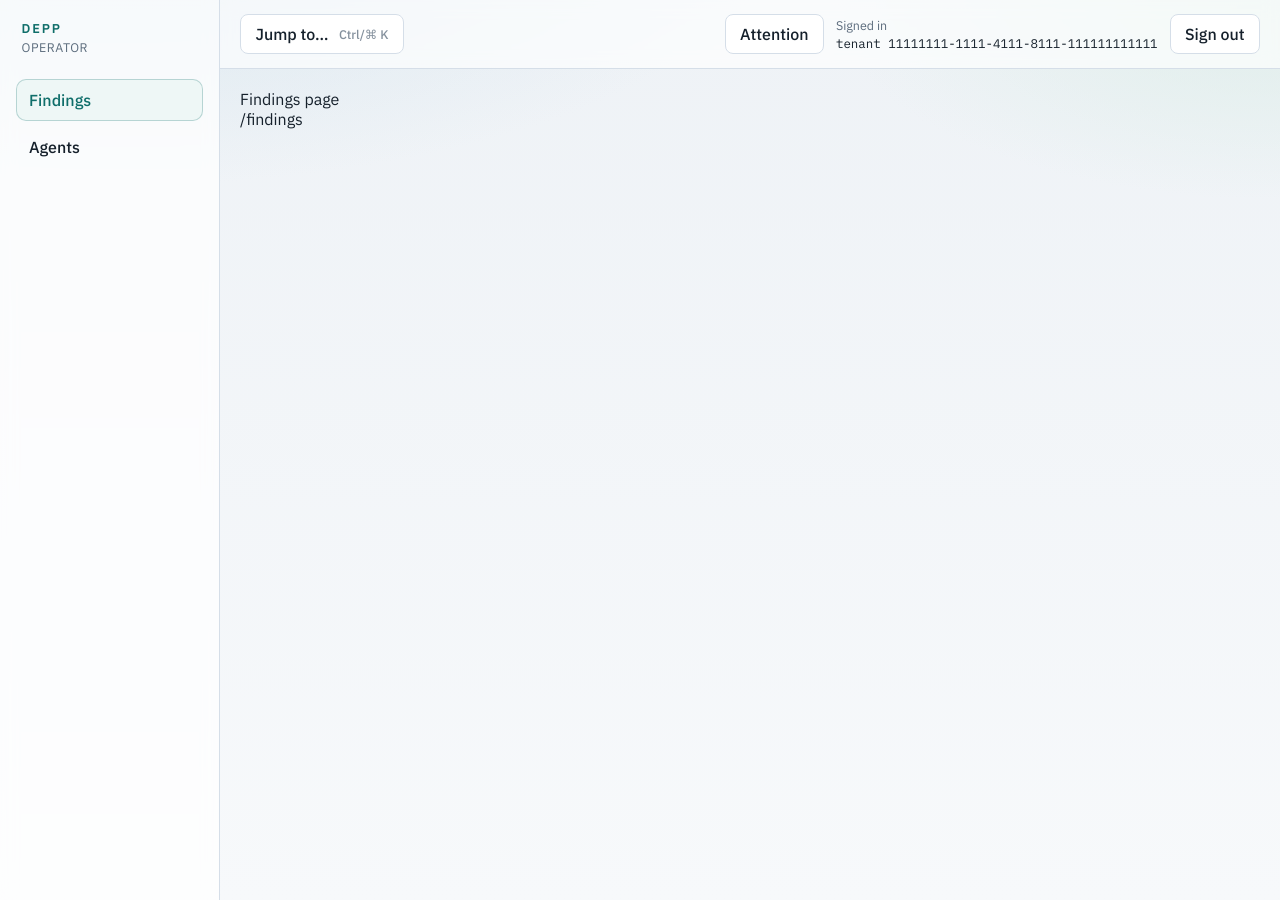
Test: OperatorShell › shows no-match state and applies a saved view path
Click the button "Jump to… Ctrl/⌘ K".
click(322, 34)  # box [240,14,404,54]
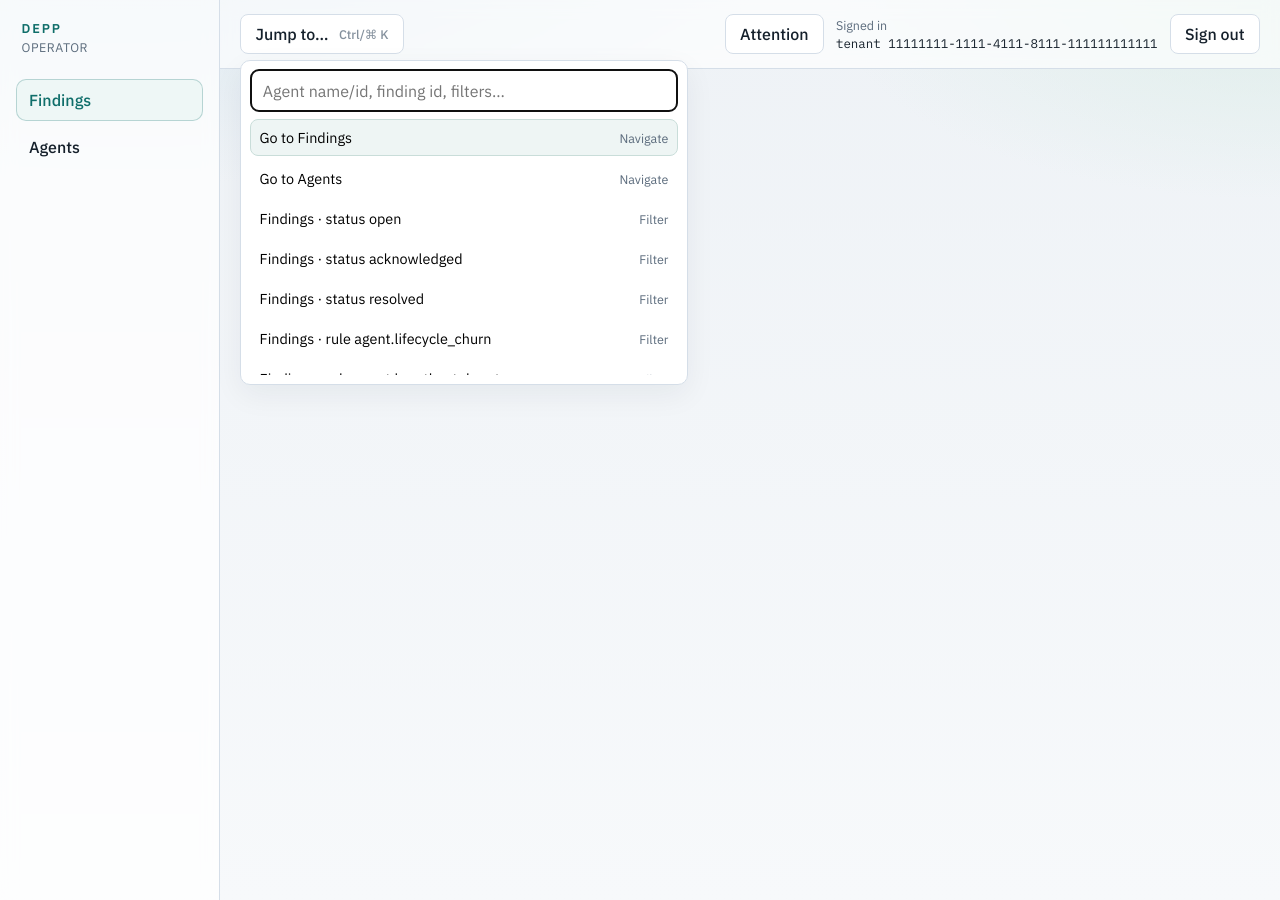
Type "zzzz-none" into the field named "Filter actions".
click(464, 91); type("zzzz-none")  # box [250,69,678,112]
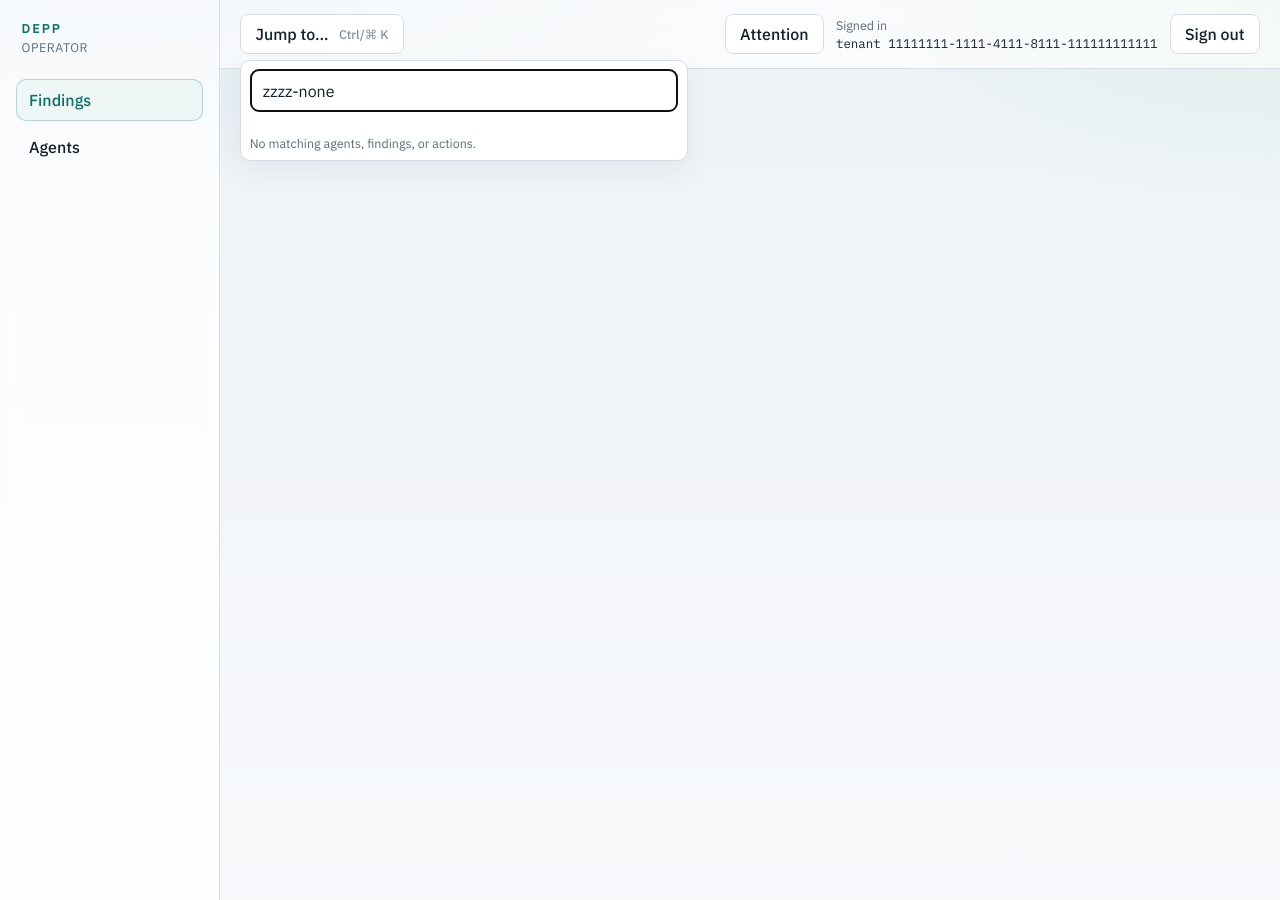
Expected: the text "No matching agents, findings, or actions." is shown, [250,135,476,151]
Replace the text in the field named "Filter actions" with "Open churn" at (464, 91), box [250,69,678,112]
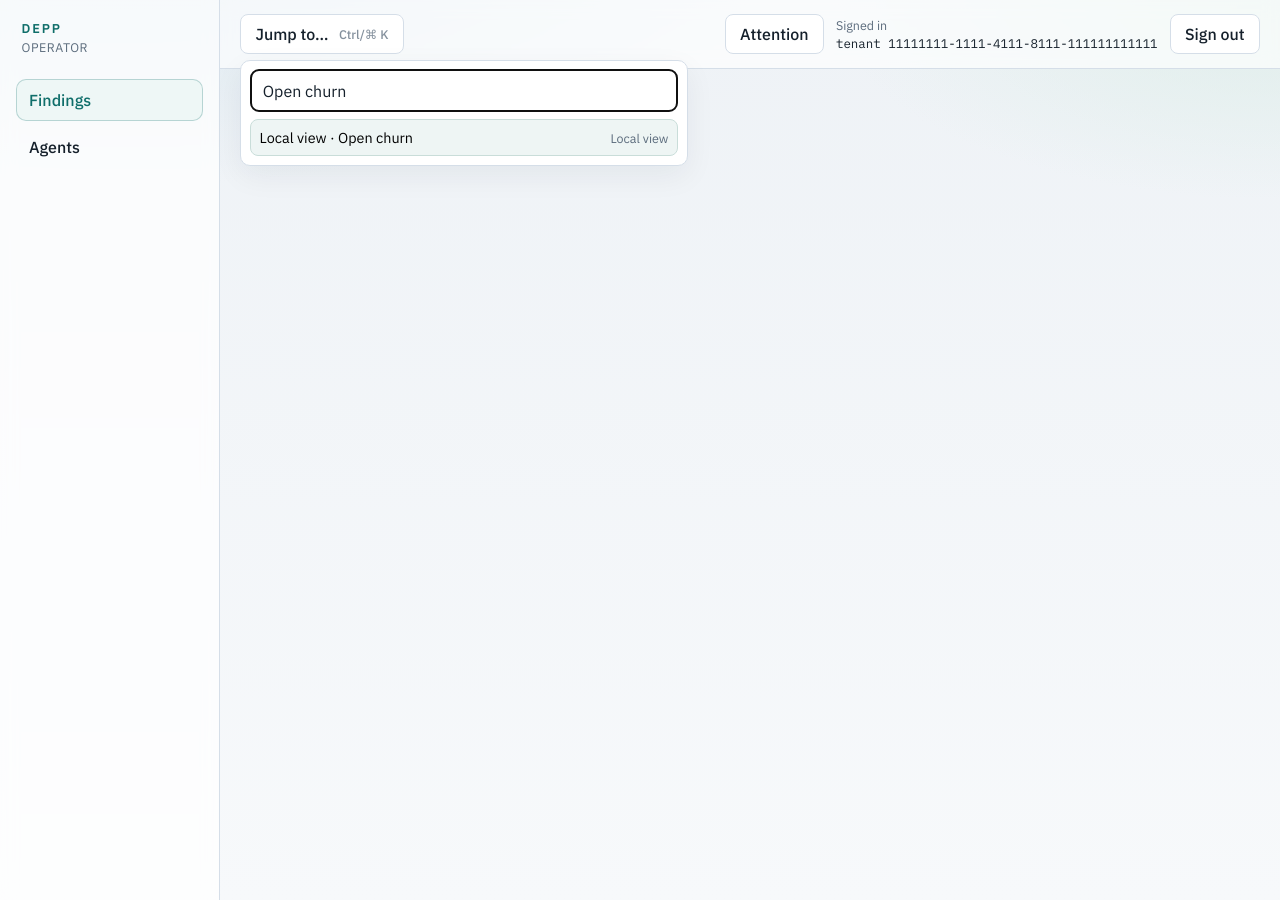
Click the option "Local view · Open churn Local view".
click(336, 138)  # box [250,119,678,156]
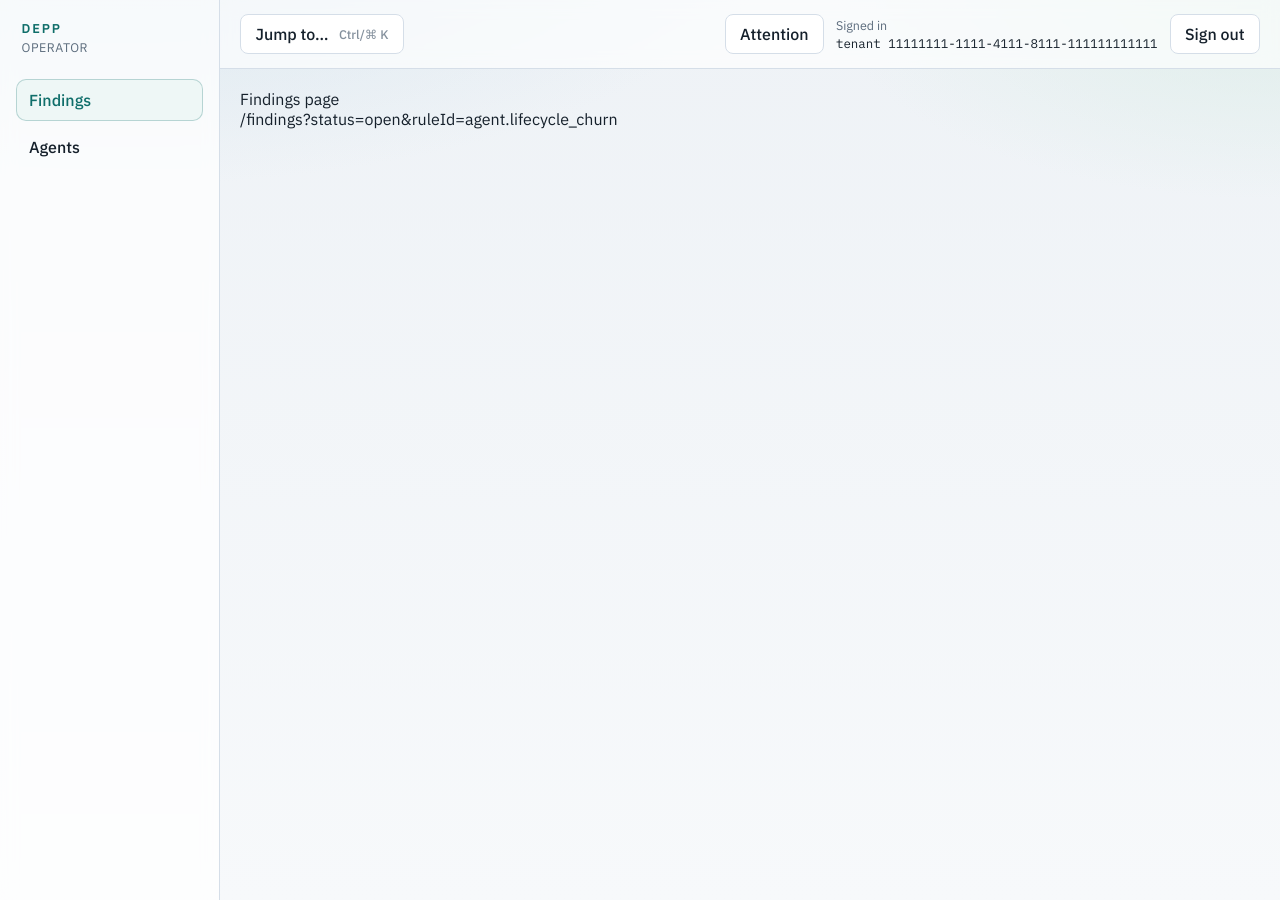
Expected: the text with test id "location-probe" reads "/findings?status=open&ruleId=agent.lifecycle_churn", [240,109,618,129]
